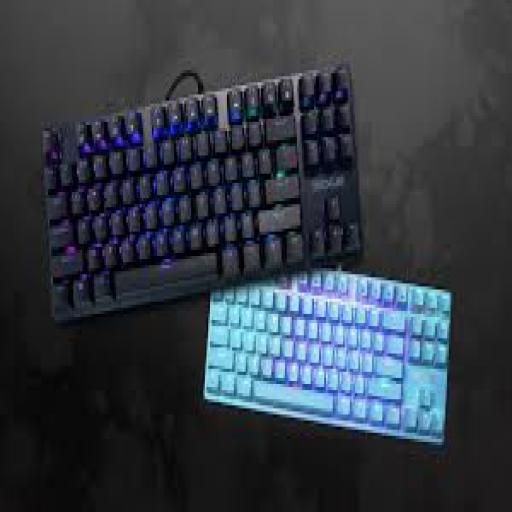keyboard: (43, 64, 360, 320), (203, 271, 451, 442)
